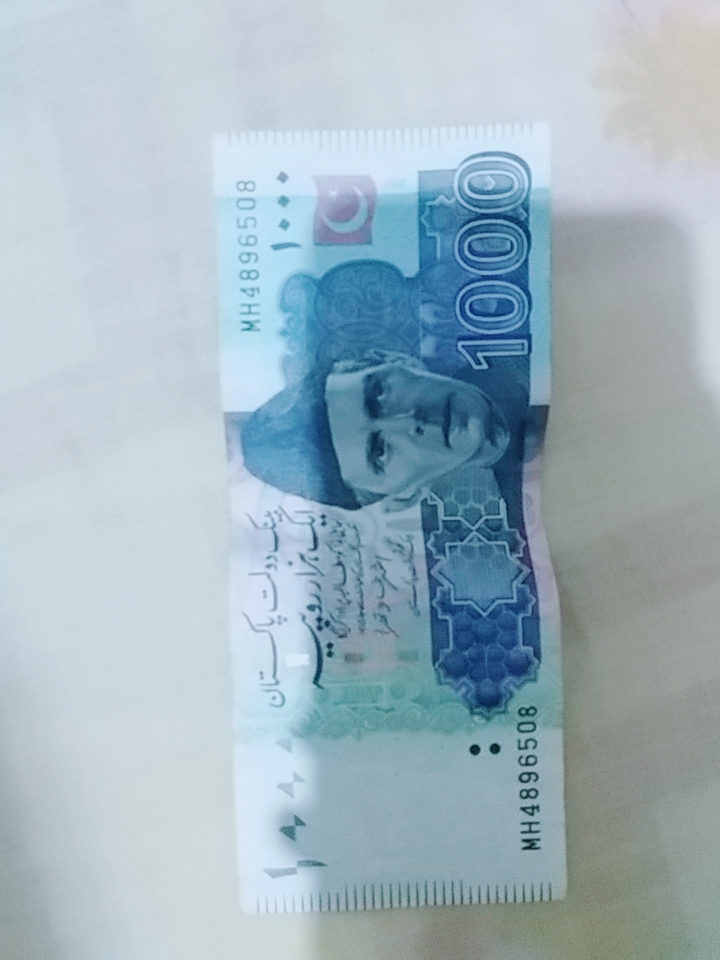1000 rupee: (166, 118, 597, 940)
